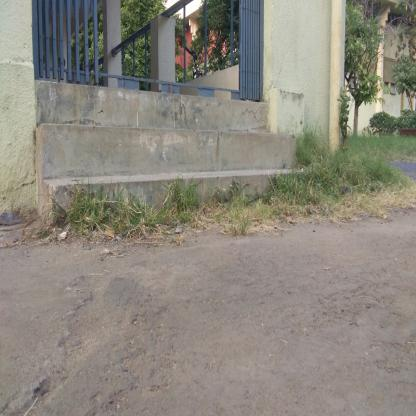stairs: (59, 102, 253, 224)
